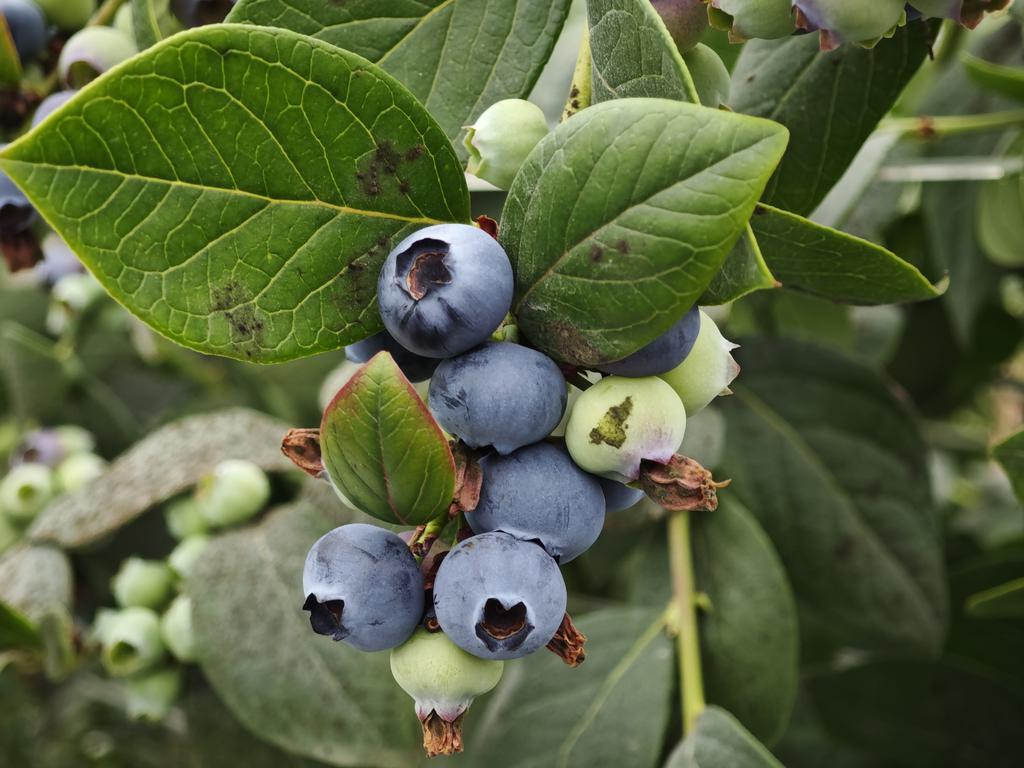RipeBlueBerry: (437, 530, 576, 661), (379, 222, 511, 358), (303, 524, 426, 654), (430, 342, 566, 453)
UnripeBlueBerry: (568, 371, 694, 490), (461, 99, 548, 183)
